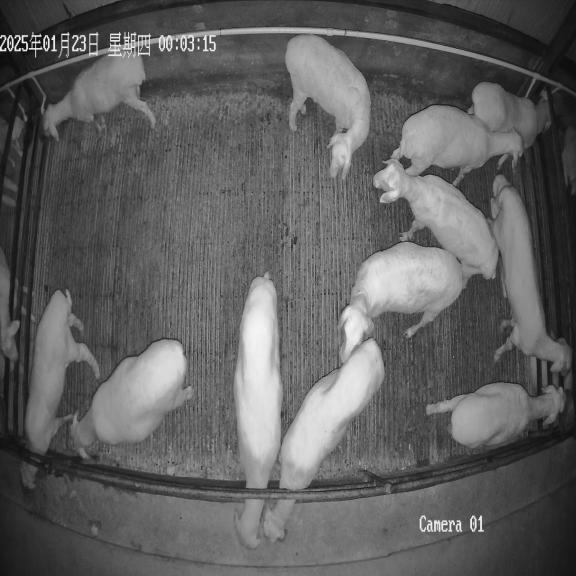drinking: (42, 51, 156, 140), (468, 82, 556, 148)
eating: (263, 338, 384, 542), (21, 289, 100, 488), (234, 273, 283, 549)
lying: (491, 175, 512, 218)
stand: (373, 159, 498, 288), (491, 186, 571, 375), (70, 339, 194, 459), (339, 242, 464, 359), (285, 35, 371, 178), (391, 105, 524, 186), (426, 382, 566, 448)
